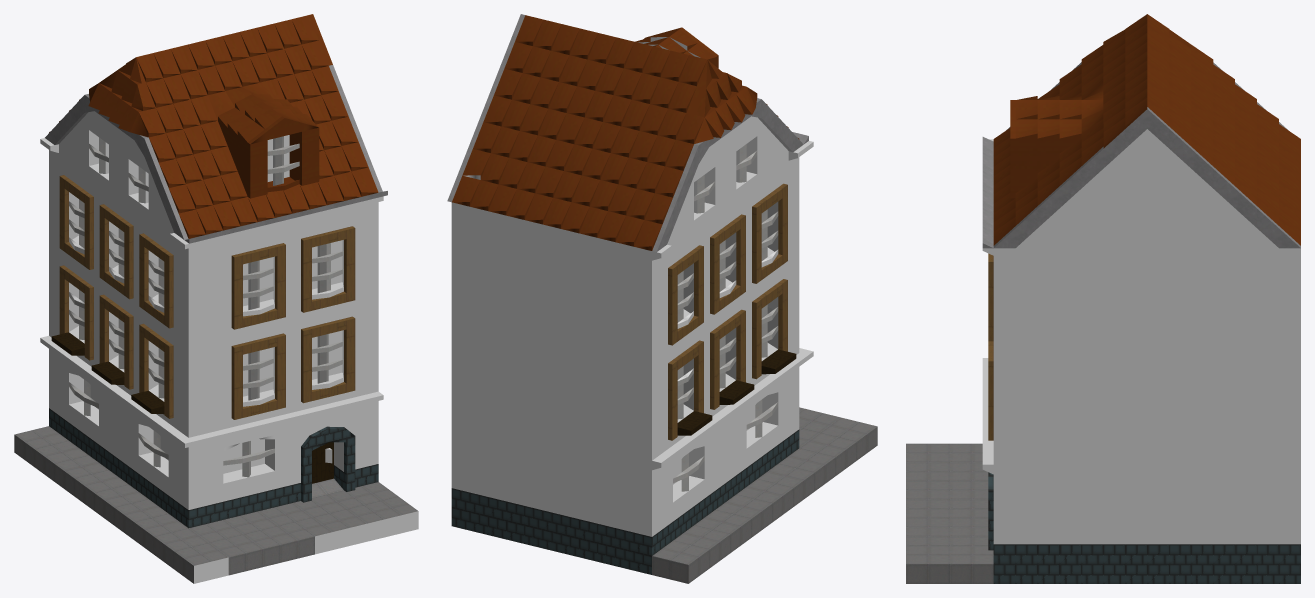
File: kakayata hata.fbx
3 renders of one model, left to right at view 1: azimuth 30°, elevation 25°; view 2: azimuth 150°, elevation 25°; view 3: azimuth 270°, elevation 25°, orthographic. The views are drawn at different scales.
Visible parts, largest first — view 1: домишко; view 2: домишко; view 3: домишко.
Part boxes in pixels (x1,y1,x2,y2): домишко: (14,14,418,583); домишко: (447,14,877,583); домишко: (906,14,1300,583).
Bounding box in the file's own units: 1325 × 2400 × 1800.
